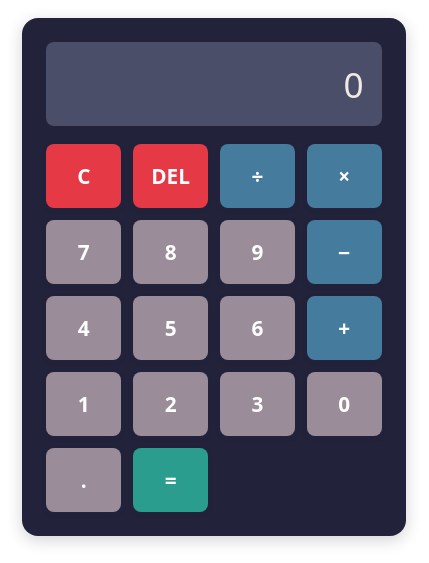
Test case: Calculator UI › operator buttons update display
Click the button "7": (84, 252) x1=46 y1=220 x2=121 y2=284
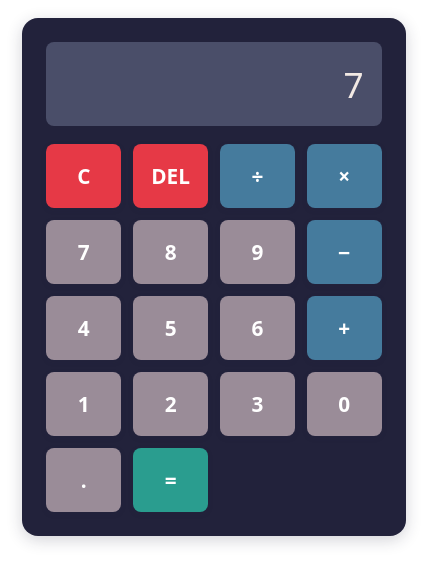
Click the button "+": (344, 328) x1=307 y1=296 x2=382 y2=360
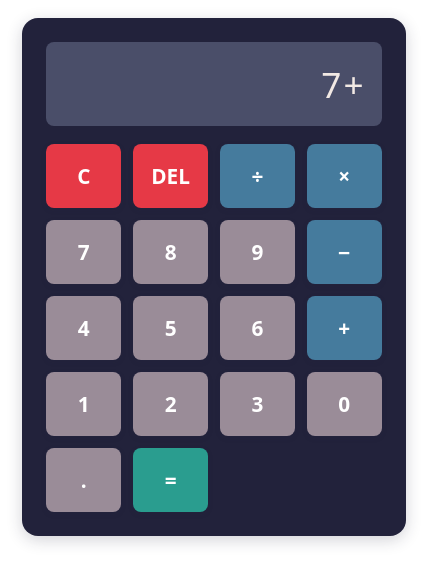
Click the button "3": (257, 404) x1=220 y1=372 x2=295 y2=436
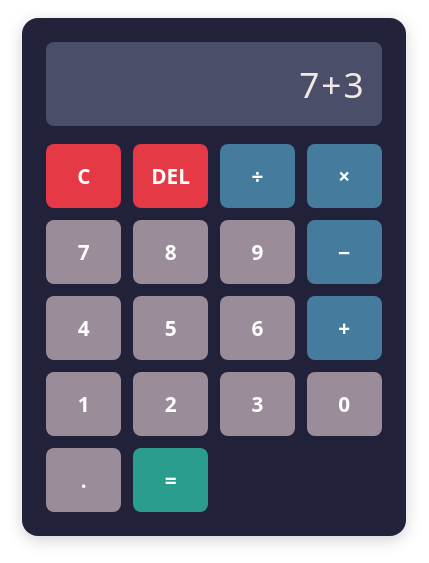
Expected: the text "7+3" is shown, x1=46 y1=42 x2=382 y2=126
